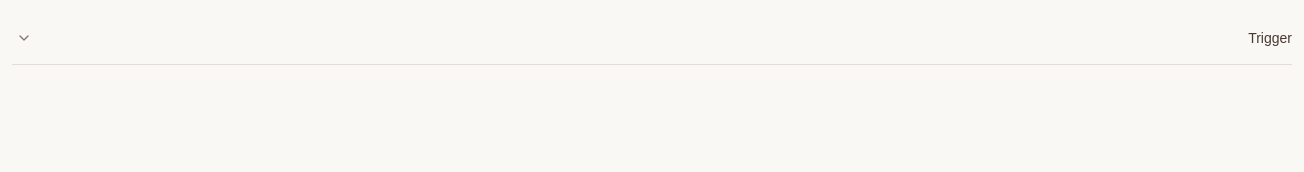
Test: accordions › opens a storefront accordion item
Click the button "Trigger": (1270, 38) [12, 12, 1292, 64]
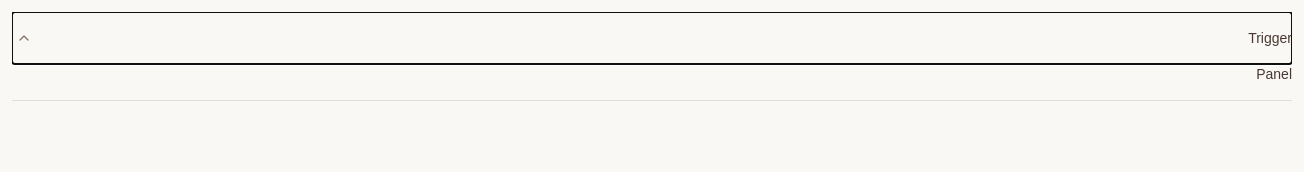
Check: the text "Panel" is shown, box [1256, 66, 1292, 82]
